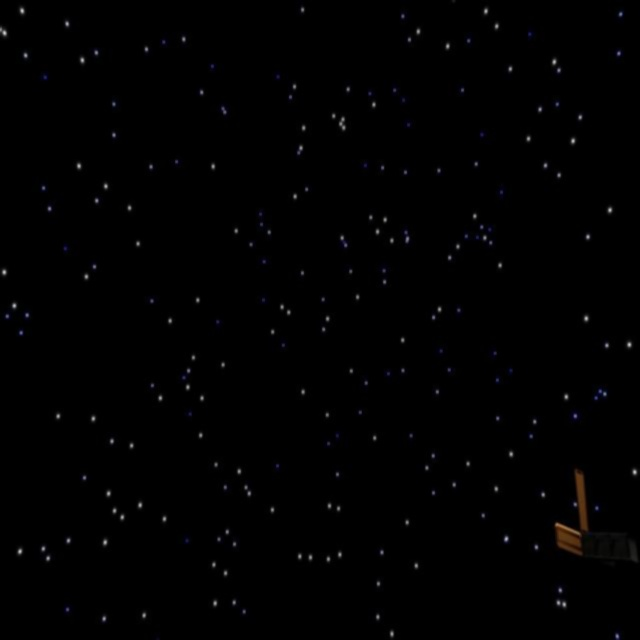satellite: (545, 471, 640, 566)
